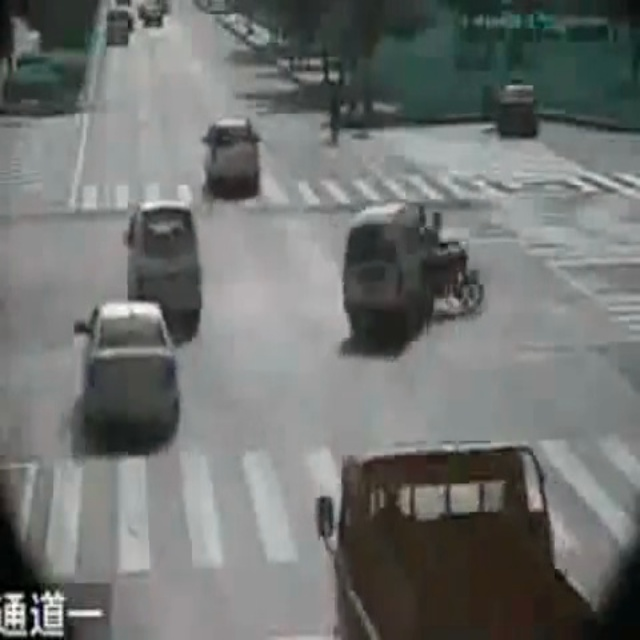acc: (343, 203, 482, 332)
